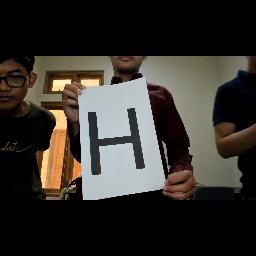h: (78, 103, 148, 181)
